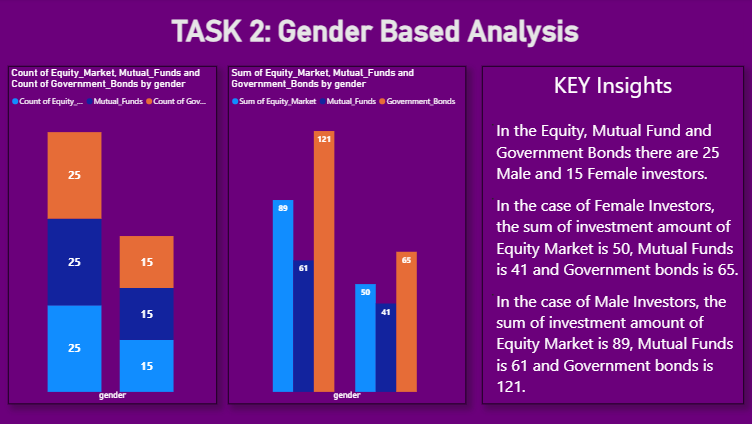

Layout of this report page (visuals, bound fields, positions):
{"tool":"powerbi","page":{"name":"Task 2","canvas":[1280,720],"ordinal":1},"visuals":[{"type":"textbox","title":"TASK 2: Gender Based Analysis","box":[21.3,26.9,1237.3,62.4],"z":0},{"type":"columnChart","fields":{"Category":["Data_set 2.gender"],"Y":["CountNonNull(Data_set 2.Equity_Market)","CountNonNull(Data_set 2.Mutual_Funds)","CountNonNull(Data_set 2.Government_Bonds)"]},"box":[23.5,114.2,351.1,567.8],"z":1000},{"type":"clusteredColumnChart","fields":{"Category":["Data_set 2.gender"],"Y":["Sum(Data_set 2.Equity_Market)","Sum(Data_set 2.Mutual_Funds)","Sum(Data_set 2.Government_Bonds)"]},"box":[393.1,114.2,399.8,567.8],"z":2000},{"type":"textbox","box":[819.7,114.2,440.1,567.8],"z":3000}]}

Visuals, with their boxes in screenshot pixels (x1, y1, x2, y2), scaled from the page's 1280x720 canvas onto the 752x424 screenshot:
"TASK 2: Gender Based Analysis" textbox: crop(13, 16, 739, 53)
columnChart - Data_set 2.gender x CountNonNull(Data_set 2.Equity_Market): crop(14, 67, 220, 402)
clusteredColumnChart - Data_set 2.gender x Sum(Data_set 2.Equity_Market): crop(231, 67, 466, 402)
textbox: crop(482, 67, 740, 402)
